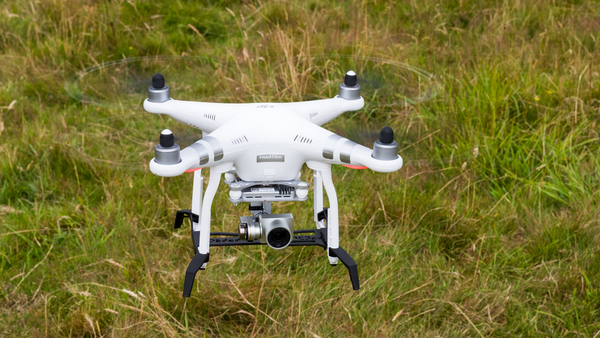drone: (135, 63, 406, 301)
